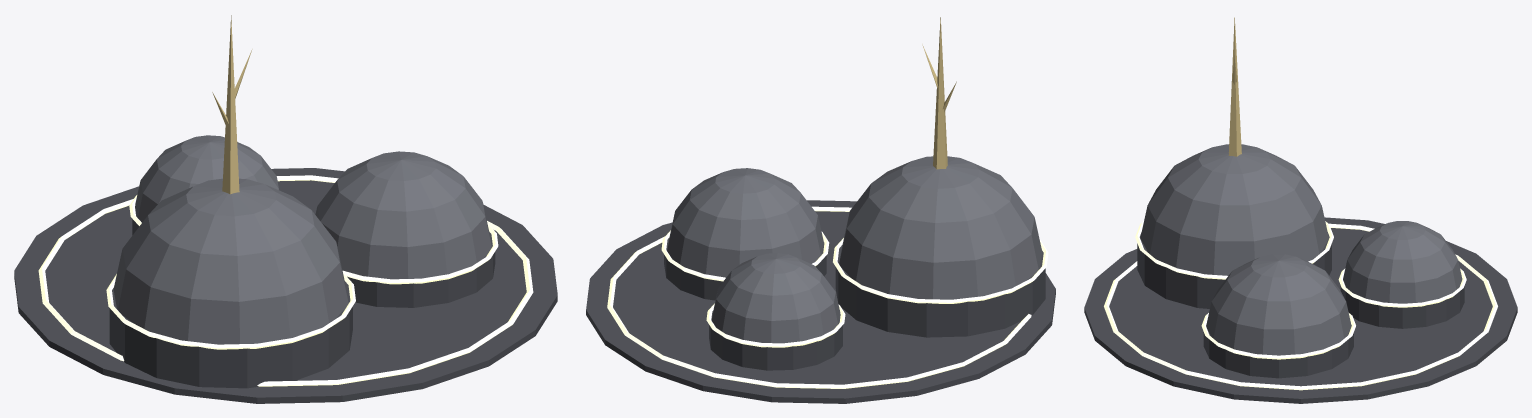
Rendered from zone_low_3.glb.
The picture shows the model from 3 angles, left to right: view 1: azimuth 30°, elevation 25°; view 2: azimuth 150°, elevation 25°; view 3: azimuth 270°, elevation 25°; orthographic projection. The views are drawn at different scales.
Parts seen in each view (by area): view 1: zone_low_3, detail; view 2: zone_low_3, detail; view 3: zone_low_3, detail.
Boxes of the visible parts, box(x1,y1,x2,y2) form: zone_low_3: box(14, 15, 557, 403); detail: box(38, 49, 533, 386); zone_low_3: box(586, 17, 1055, 403); detail: box(607, 44, 1031, 388); zone_low_3: box(1084, 17, 1517, 403); detail: box(1104, 55, 1497, 390).
Size of the model in its own units: 19.6 by 13.03 by 19.6.
